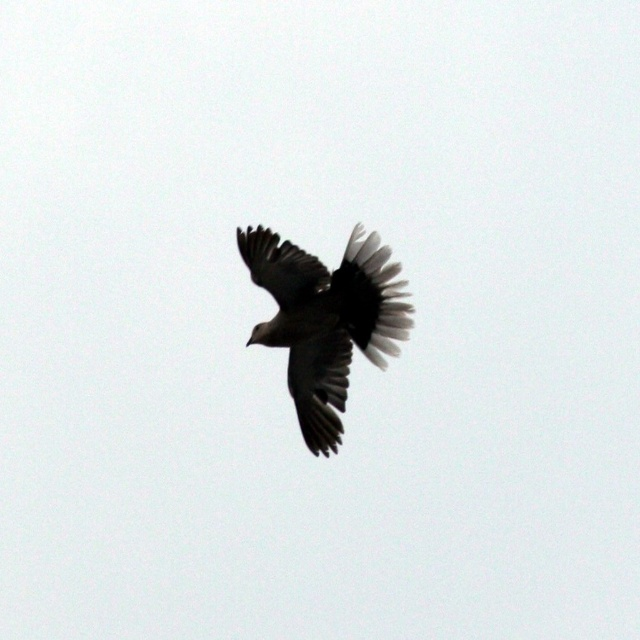Eagle: (234, 213, 417, 455)
